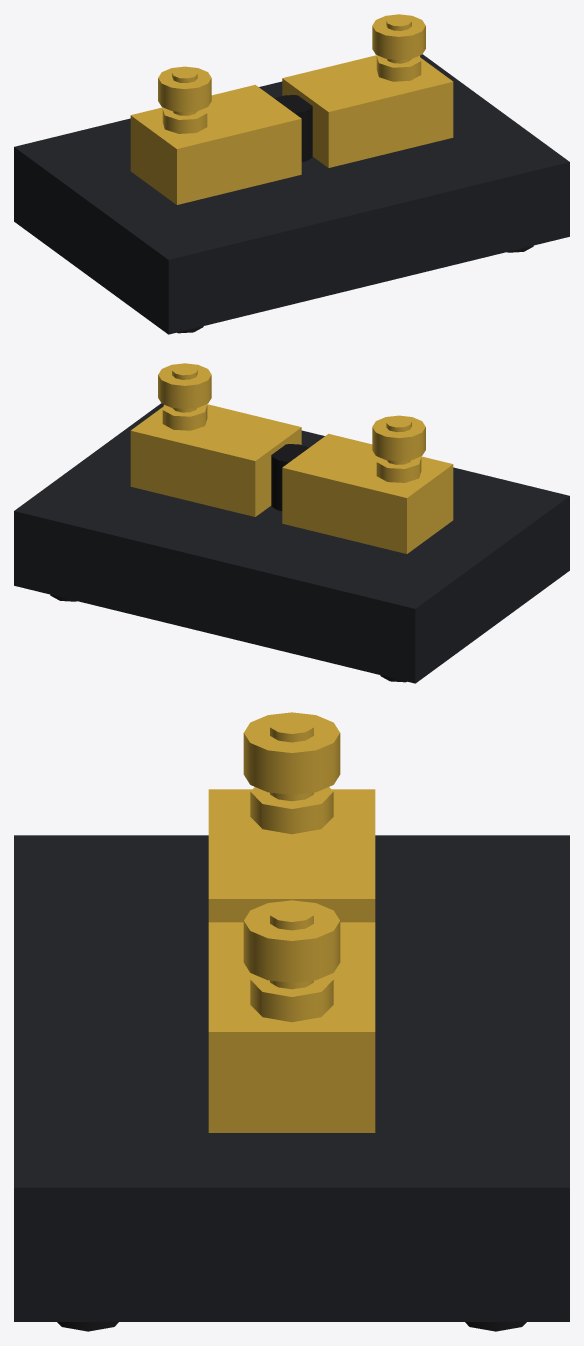
The model's file is PlugKey_Lab_Pro.obj.
The picture shows the model from 3 angles, top to bottom: view 1: azimuth 30°, elevation 25°; view 2: azimuth 150°, elevation 25°; view 3: azimuth 270°, elevation 25°; orthographic projection. The views are drawn at different scales.
Size of the model in its own units: 0.09 by 0.042 by 0.06.
